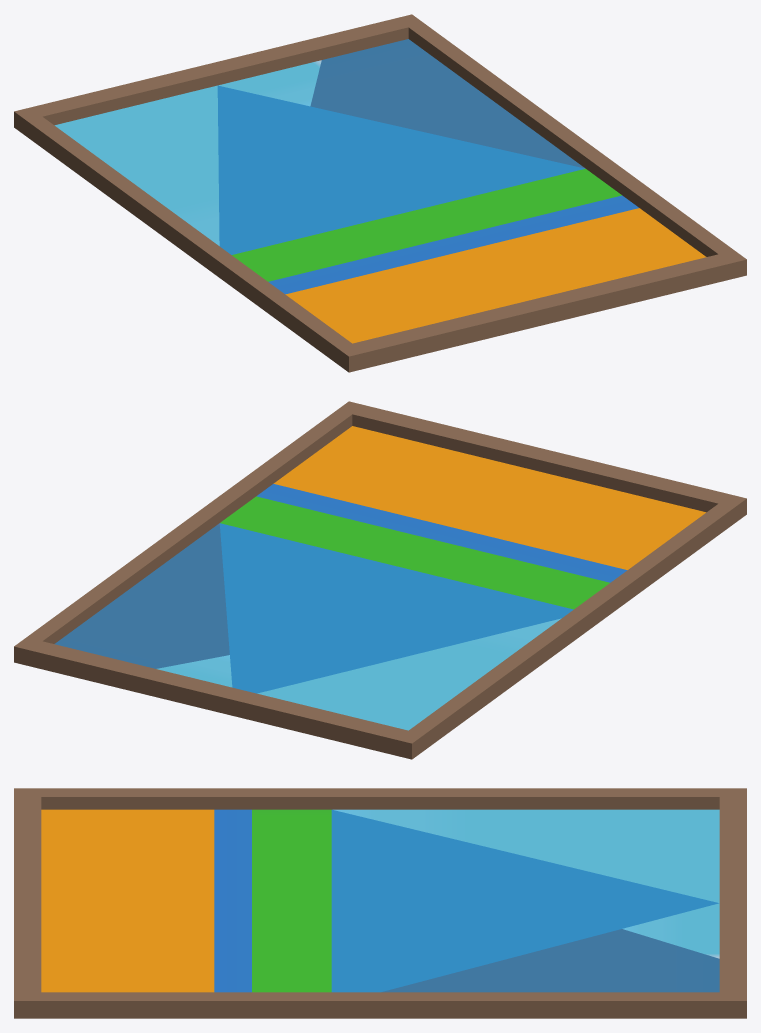
The model's file is Hua1_Mo.fbx.
3 views of the same model, one above another, from view 1: azimuth 30°, elevation 25°; view 2: azimuth 150°, elevation 25°; view 3: azimuth 270°, elevation 25° (orthographic). The views are drawn at different scales.
Parts seen in each view (by area): view 1: 对象001; view 2: 对象001; view 3: 对象001.
Part boxes in pixels (bbox=[...]): 对象001: bbox=[14, 14, 746, 372]; 对象001: bbox=[14, 401, 746, 759]; 对象001: bbox=[14, 788, 746, 1018].
Size of the model in its own units: 22359 by 860 by 32583.
